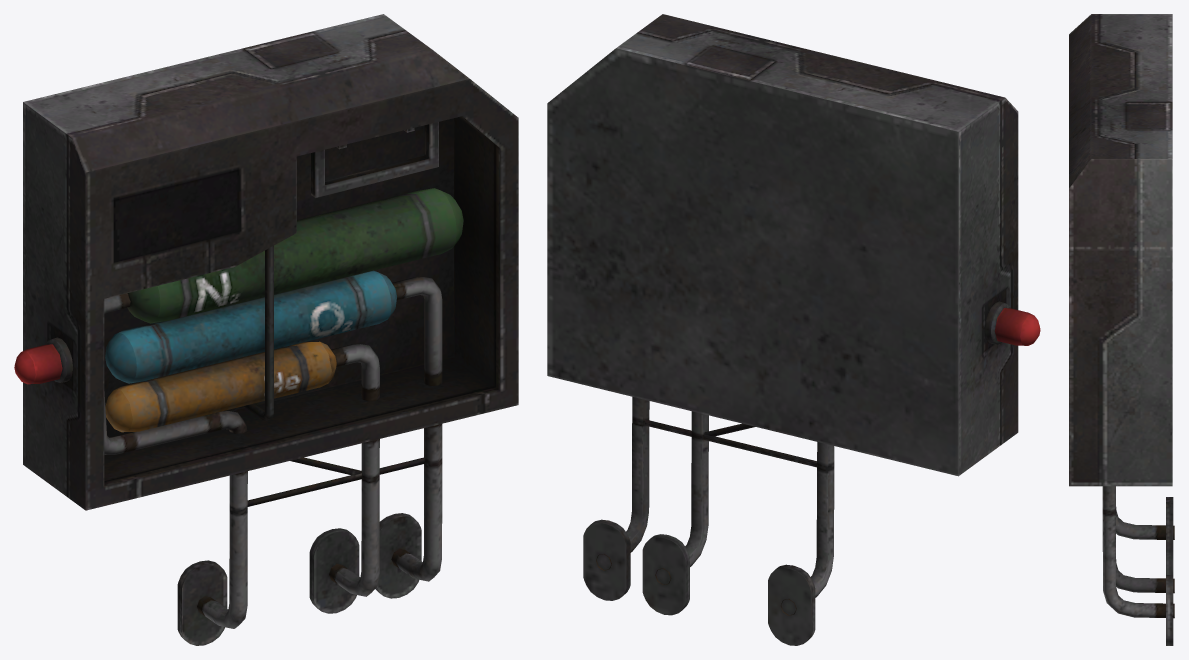
File: emergencyoxy_open.dae
3 renders of one model, left to right at view 1: azimuth 30°, elevation 25°; view 2: azimuth 150°, elevation 25°; view 3: azimuth 270°, elevation 25°, orthographic. The views are drawn at different scales.
Visible parts, largest first — view 1: emergencyoxy_open; view 2: emergencyoxy_open; view 3: emergencyoxy_open.
Part boxes in pixels (bbox=[...]): emergencyoxy_open: bbox=[14, 14, 518, 645]; emergencyoxy_open: bbox=[547, 14, 1040, 645]; emergencyoxy_open: bbox=[1069, 14, 1174, 645].
Bounding box in the file's own units: 84.88 × 99.08 × 19.75.
